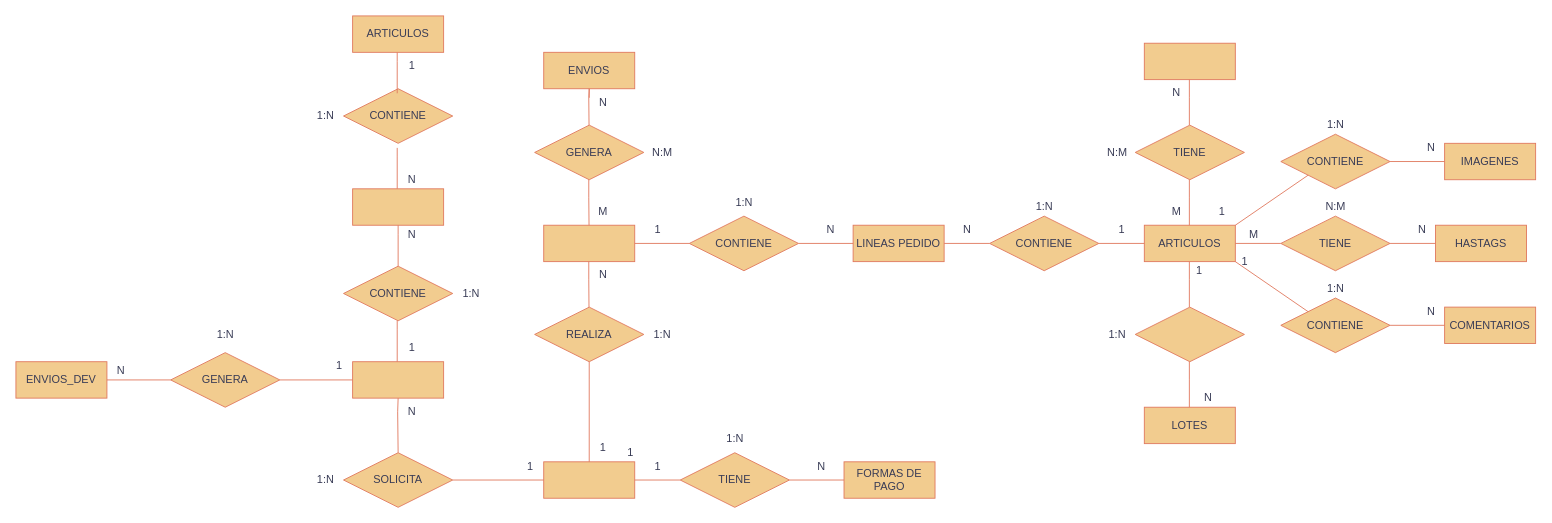
Some shapes in this 1552 by 523 pixel diagram are drawn without their labels. Here are the shapes that lost their labels. From the top down, the centre of each, then its label:
At point (1189, 61): "TIPOS DE PRODUCTO".
At point (398, 206): "LINEAS DEVOLUCION".
At point (589, 243): "PEDIDOS".
At point (1189, 334): "SE DIVIDE".
At point (398, 379): "DEVOLUCIONES".
At point (589, 479): "CLIENTES".
